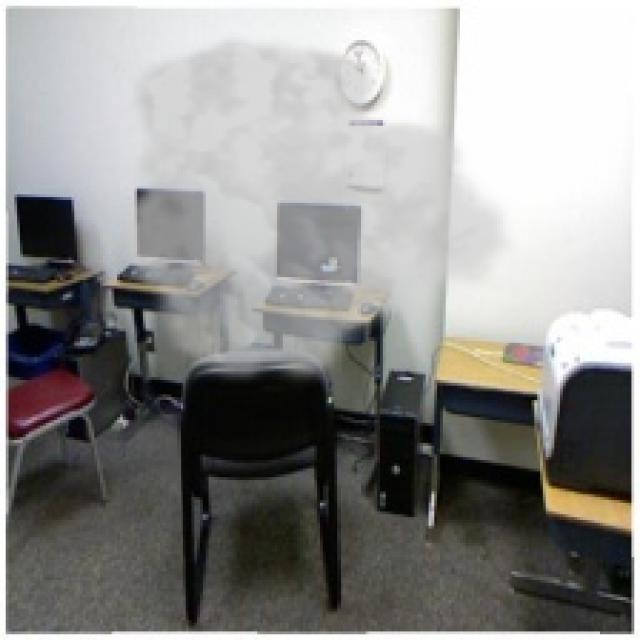Smoke: (114, 31, 520, 392)
